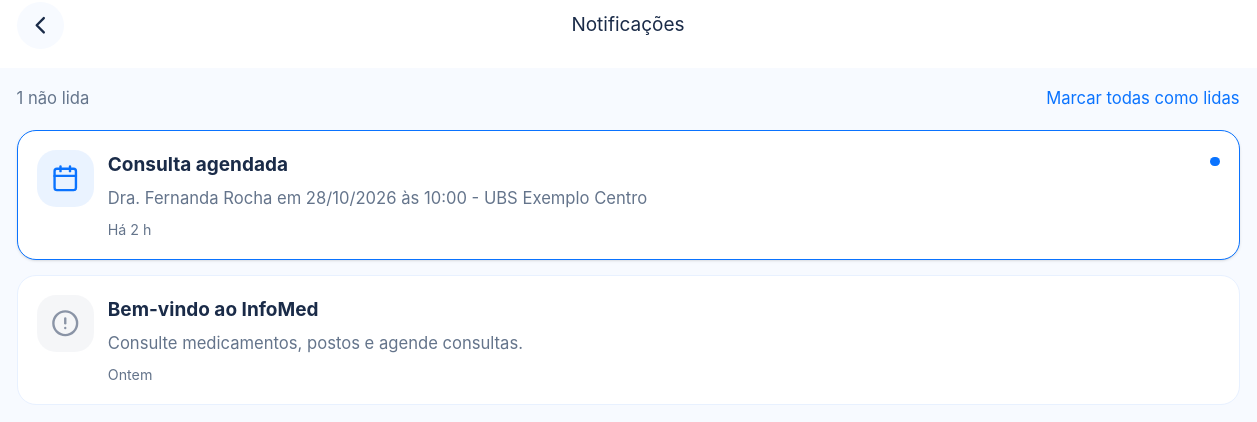
Test case: telas de lembretes e notificações › notificações: marca como lida e o contador cai
expect the text "1 não lida" is shown: met, box top-left (16, 87), bottom-right (89, 111)
Click the heading "Consulta agendada".
click(198, 165)  # box top-left (108, 150), bottom-right (288, 180)
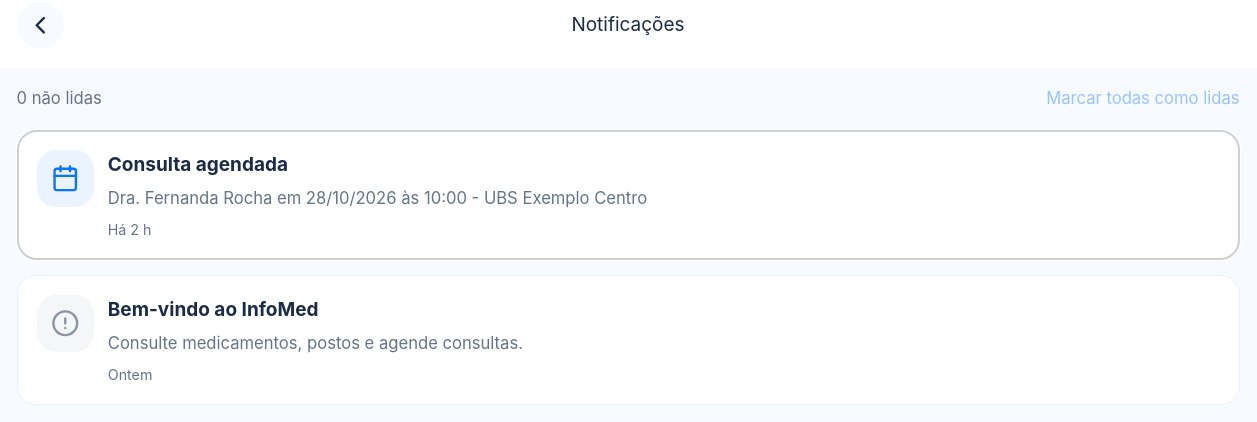
expect the text "0 não lidas" is shown: met, box top-left (16, 87), bottom-right (102, 111)
